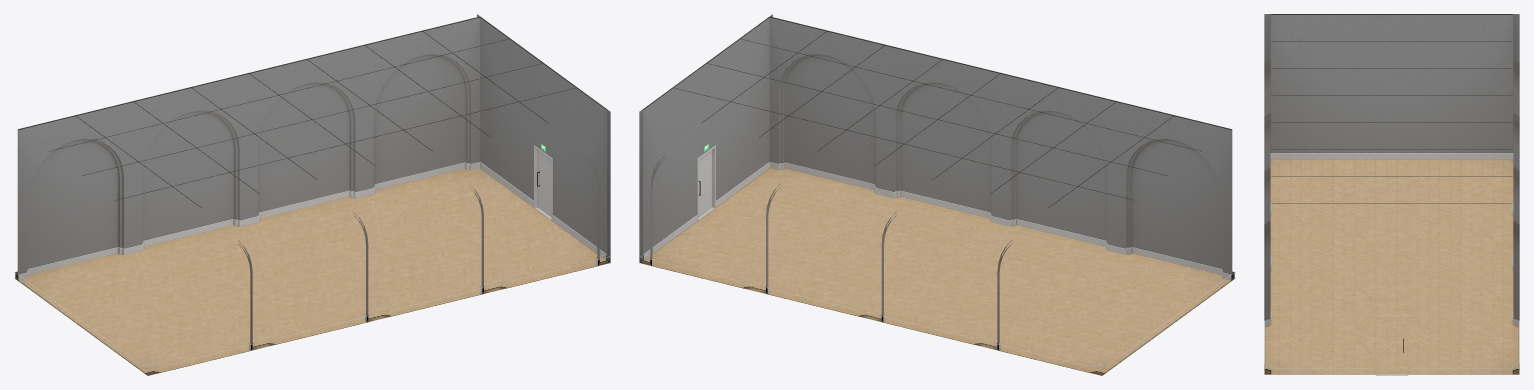
The model's file is vr_gallery (2).glb.
The picture shows the model from 3 angles, left to right: view 1: azimuth 30°, elevation 25°; view 2: azimuth 150°, elevation 25°; view 3: azimuth 270°, elevation 25°; orthographic projection. The views are drawn at different scales.
Visible parts, largest first — view 1: VR Gallery; view 2: VR Gallery; view 3: VR Gallery.
Part boxes in pixels (x1,y1,x2,y2): VR Gallery: [14, 14, 610, 375]; VR Gallery: [639, 14, 1235, 375]; VR Gallery: [1264, 14, 1519, 375].
Bounding box in the file's own units: 16.09 × 5 × 8.
Materials: 1 (1 with a texture image).
